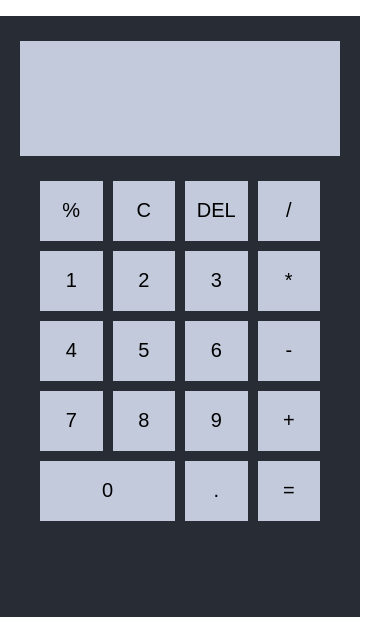
Test: Operation › Suma
expect the element titled "Displa" is empty: met, box [20,41,340,156]
Click the button "2": {"x": 144, "y": 281} [112,251,175,311]
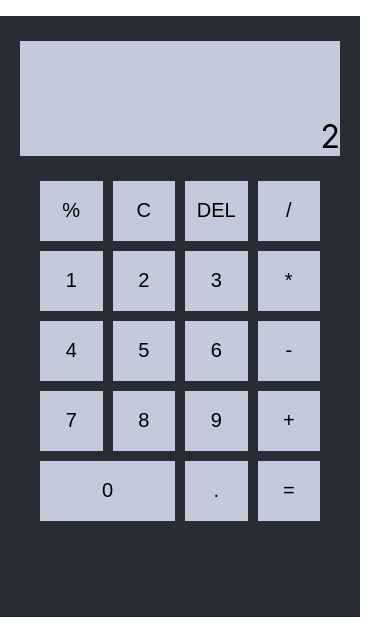
Click the button "+": {"x": 289, "y": 421} [258,391,320,451]
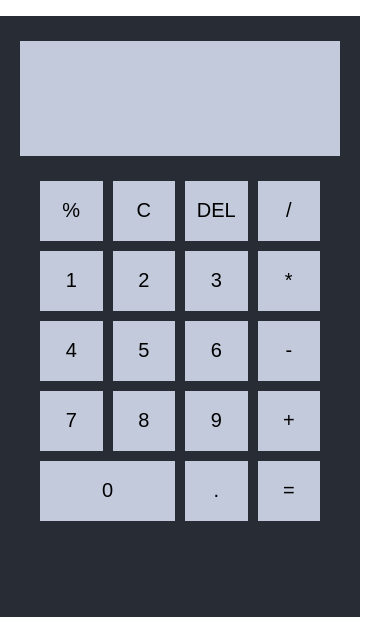
Click the button "3": {"x": 216, "y": 281} [185,251,248,311]
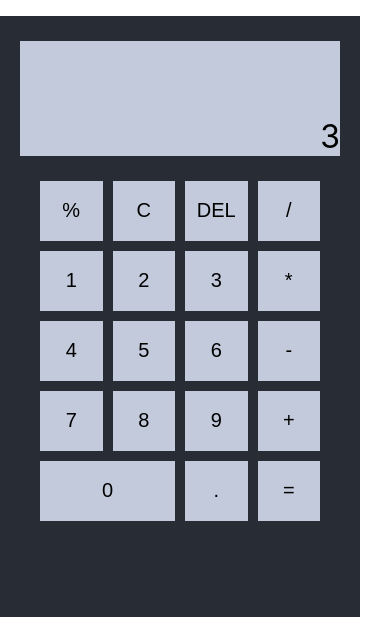
Click the button "=": {"x": 289, "y": 491} [258,461,320,521]
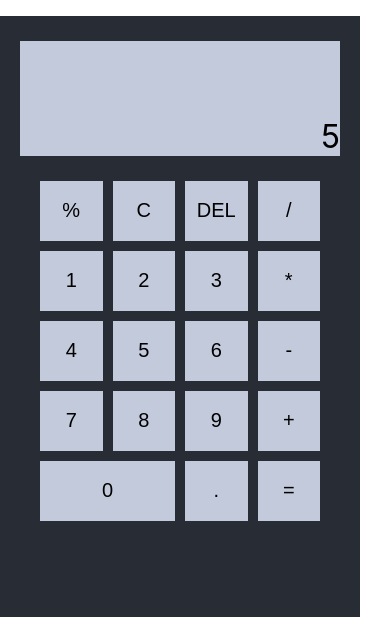
expect the text titled "Displa" reads "5": met, box [321,117,340,156]
